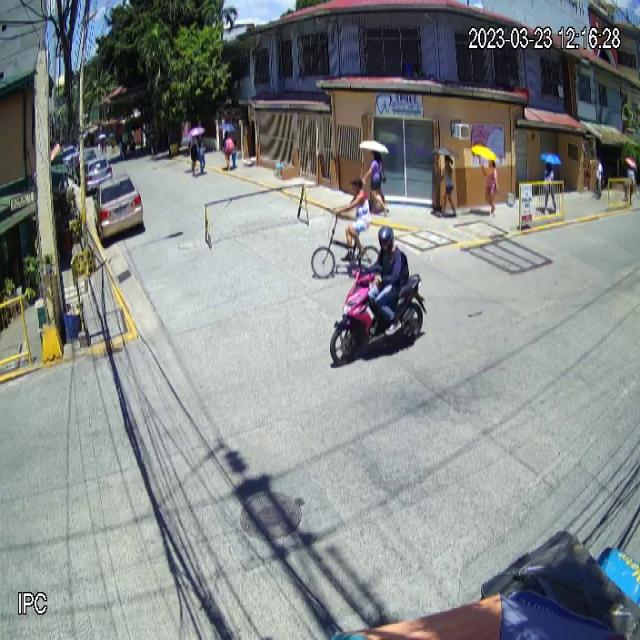Car: (93, 173, 144, 242)
Motorcycle: (329, 257, 428, 368)
